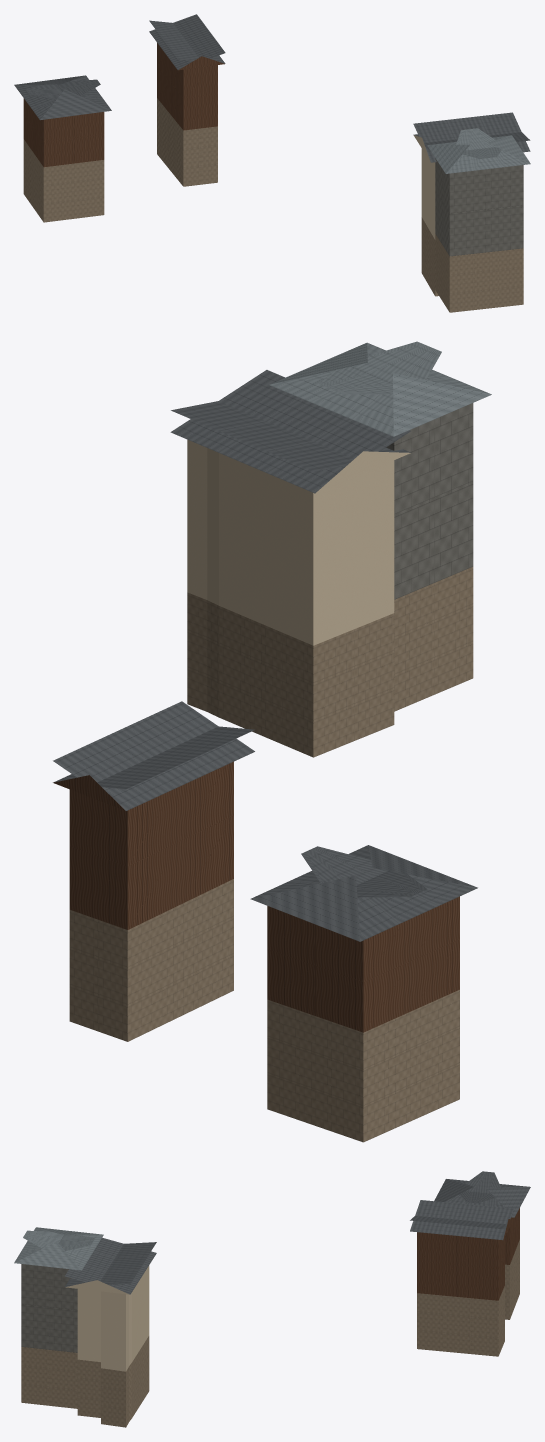
The model's file is bld_c12_29_391.gltf.
3 renders of one model, top to bottom at view 1: azimuth 30°, elevation 25°; view 2: azimuth 150°, elevation 25°; view 3: azimuth 270°, elevation 25°, orthographic. The views are drawn at different scales.
Parts seen in each view (by area): view 1: bld_c12_29_391; view 2: bld_c12_29_391; view 3: bld_c12_29_391.
Boxes of the visible parts, left/top/right/bottom form: bld_c12_29_391: left=14, top=14, right=530, bottom=312; bld_c12_29_391: left=53, top=341, right=491, bottom=1142; bld_c12_29_391: left=14, top=1171, right=530, bottom=1427.
Bounding box in the file's own units: 29.77 × 15 × 42.73.
8 materials, 8 textured.
